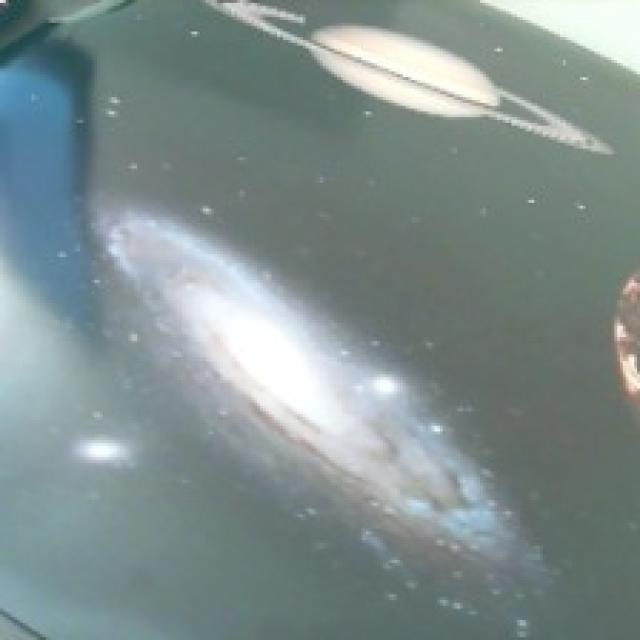Galaxy: (80, 191, 555, 588)
Saturn: (194, 0, 618, 159)
